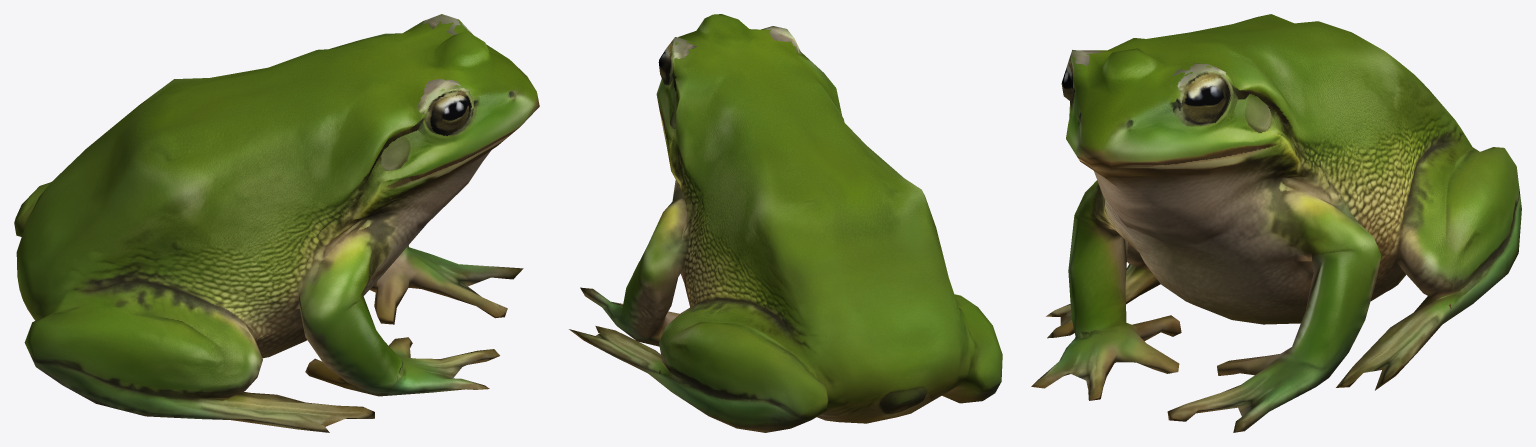
Rendered from frog_cold_single_1500.glb.
3 views of the same model, side by side, from view 1: azimuth 30°, elevation 25°; view 2: azimuth 150°, elevation 25°; view 3: azimuth 270°, elevation 25° (orthographic). The views are drawn at different scales.
Size of the model in its own units: 0.8937 by 0.5887 by 0.722.
1 material, 1 textured.
